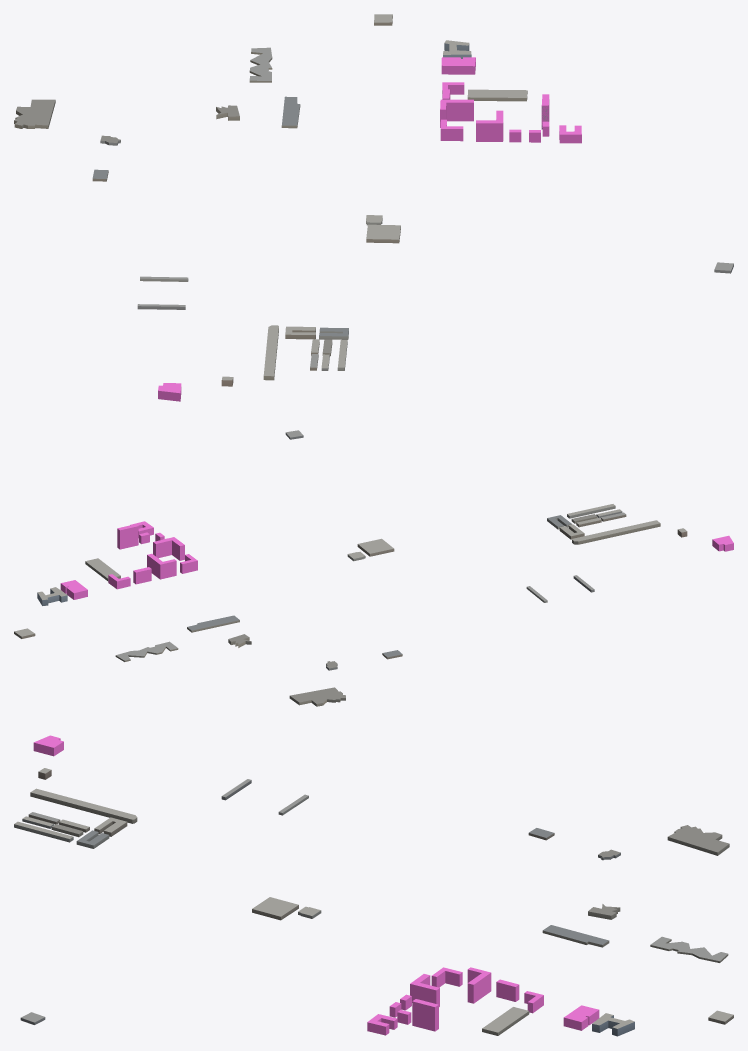
The model's file is bld_11_9.fbx.
The picture shows the model from 3 angles, top to bottom: view 1: azimuth 30°, elevation 25°; view 2: azimuth 150°, elevation 25°; view 3: azimuth 270°, elevation 25°; orthographic projection. The views are drawn at different scales.
Visible parts, largest first — view 1: bld_11_9_LOD0, bld_11_9_COL; view 2: bld_11_9_LOD0, bld_11_9_COL; view 3: bld_11_9_LOD0, bld_11_9_COL.
Part boxes in pixels (x1,y1,x2,y2): bld_11_9_LOD0: (14, 14, 733, 386); bld_11_9_COL: (158, 57, 581, 401); bld_11_9_LOD0: (14, 430, 687, 706); bld_11_9_COL: (60, 521, 733, 599); bld_11_9_LOD0: (14, 768, 733, 1036); bld_11_9_COL: (33, 735, 599, 1035).
Size of what is drawn, in the model's own units: 2003 by 77.82 by 2082.
